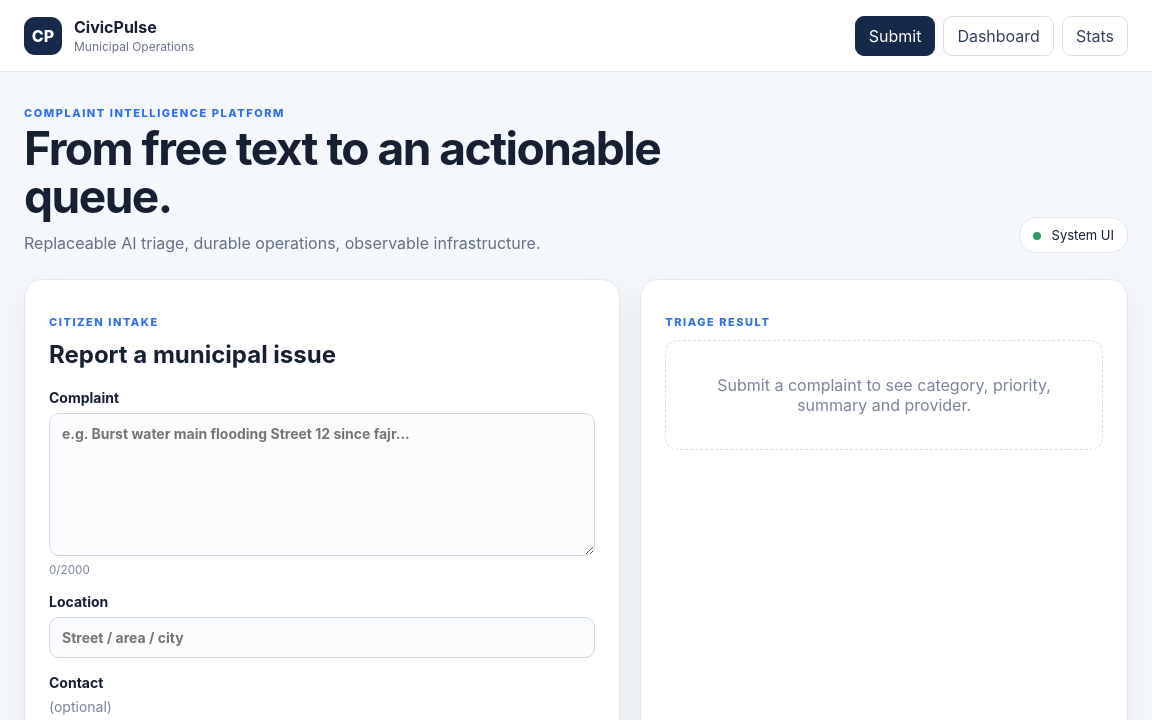
Test: navigation switches between required views
Check: the heading "Report a municipal issue" is shown, box [49,340,336,369]
Click the button "Dashboard" at [999, 36], box [943,16,1054,56]
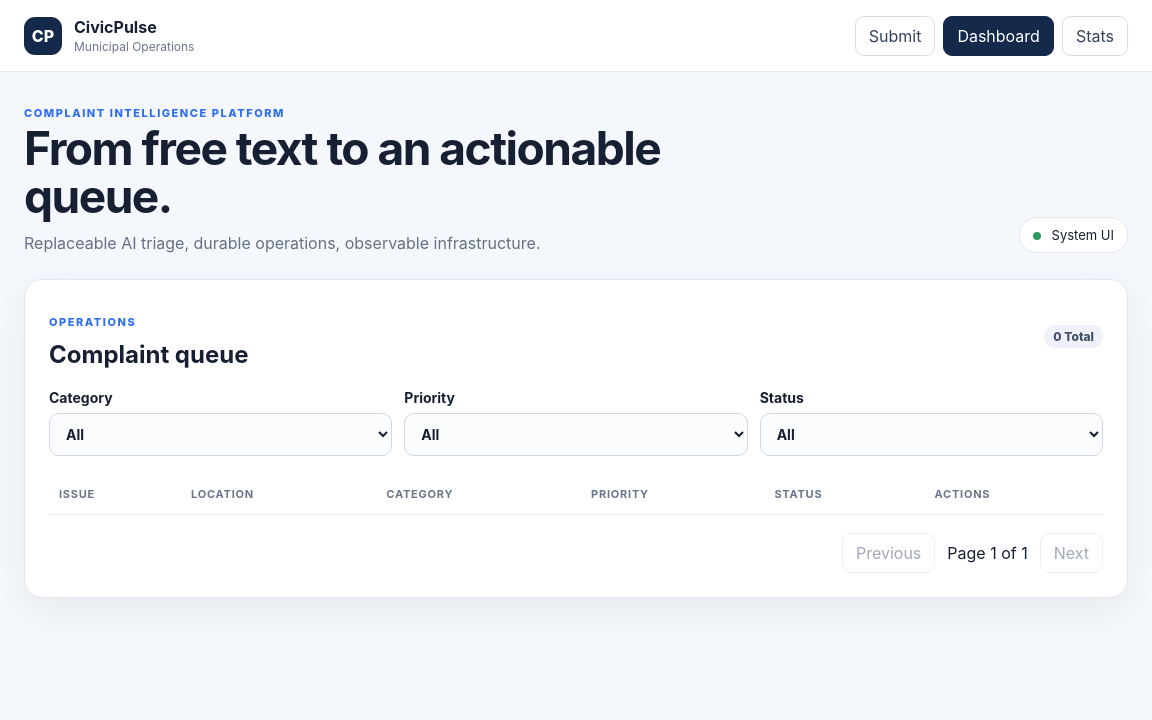
Check: the heading "Complaint queue" is shown, box [49,340,248,369]
Click the button "Stats" at [1095, 36], box [1062,16,1128,56]
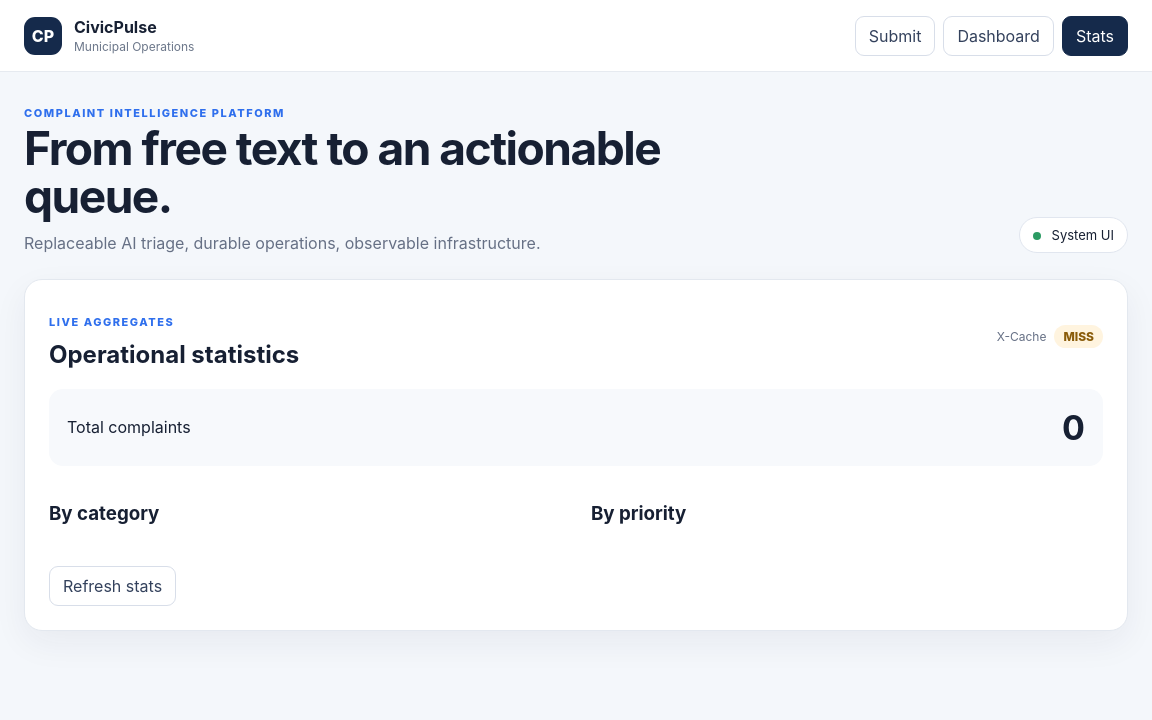
Check: the heading "Operational statistics" is shown, box [49,340,299,369]
